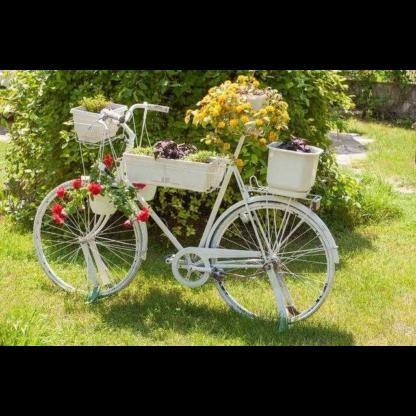Bicycle: (21, 79, 352, 336)
